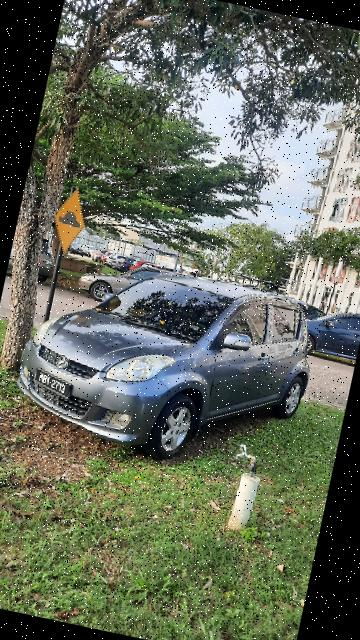License_Plate: (30, 366, 82, 406)
car: (11, 243, 332, 488)
